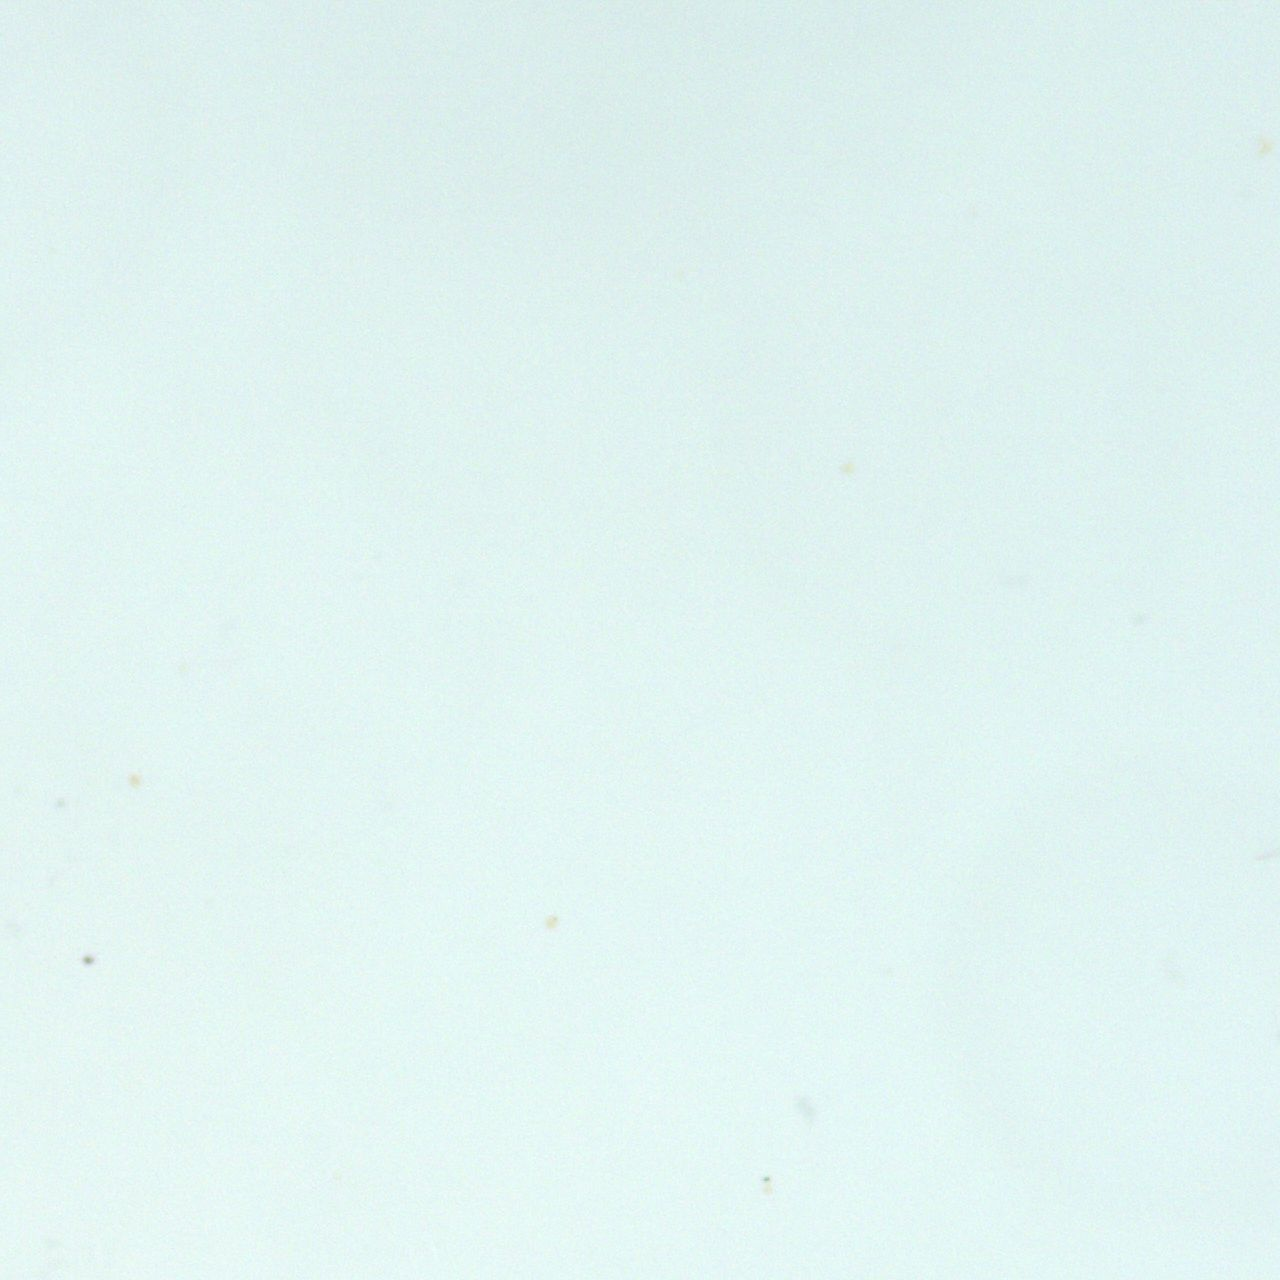dust: (1255, 132, 1271, 152), (838, 459, 855, 474), (545, 914, 557, 931), (129, 772, 141, 787), (83, 954, 94, 965)
